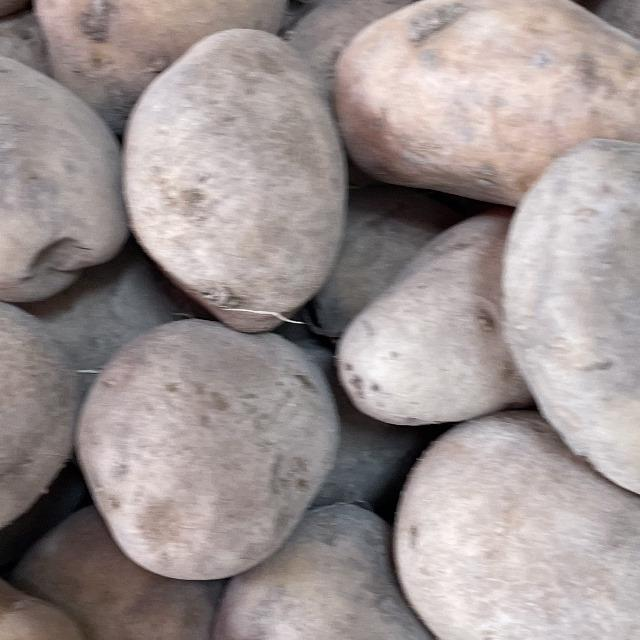potato: (118, 0, 358, 325), (315, 0, 640, 190), (505, 122, 640, 517), (0, 25, 132, 312), (0, 277, 125, 537)
